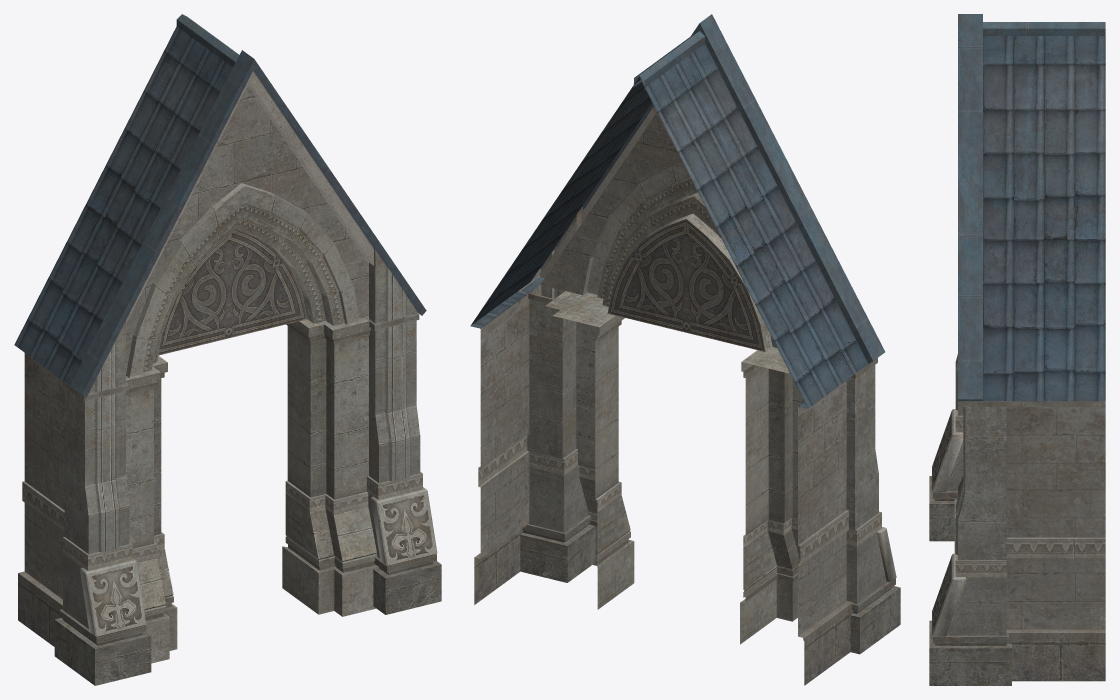
The model's file is bg_lut_lucastle_housedoor01_sm_sup.FBX.
The picture shows the model from 3 angles, left to right: view 1: azimuth 30°, elevation 25°; view 2: azimuth 150°, elevation 25°; view 3: azimuth 270°, elevation 25°; orthographic projection.
Visible parts, largest first — view 1: bg_lut_lucastle_housedoor01_sm_sup; view 2: bg_lut_lucastle_housedoor01_sm_sup; view 3: bg_lut_lucastle_housedoor01_sm_sup.
Boxes of the visible parts, x1,y1,x2,y2 form: bg_lut_lucastle_housedoor01_sm_sup: (14, 14, 441, 685); bg_lut_lucastle_housedoor01_sm_sup: (470, 14, 900, 685); bg_lut_lucastle_housedoor01_sm_sup: (929, 14, 1105, 685).
Size of the model in its own units: 306 by 487 by 132.
